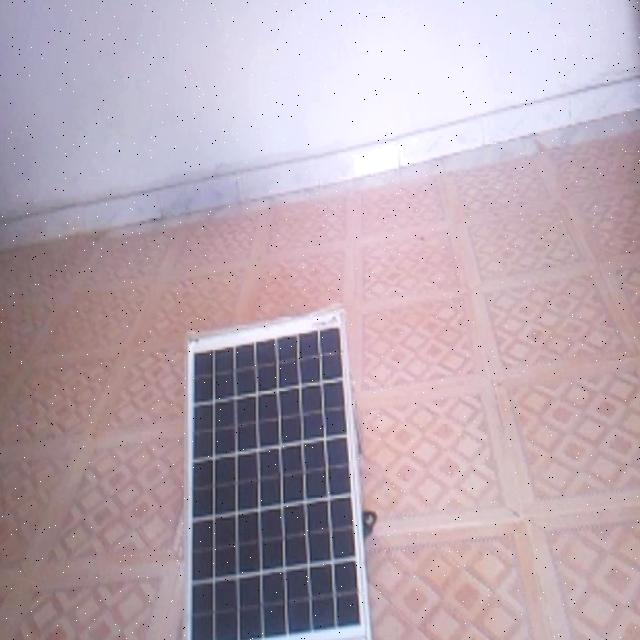Normal Solar Panel: (187, 308, 370, 640)
